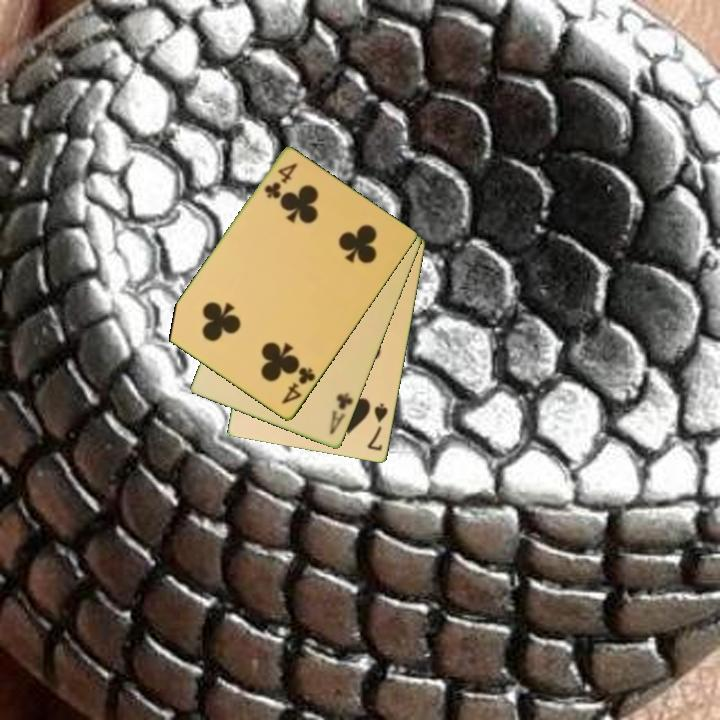4c: (278, 364, 319, 408), (261, 160, 301, 202)
7s: (364, 400, 391, 454)
Ac: (326, 389, 356, 438)
